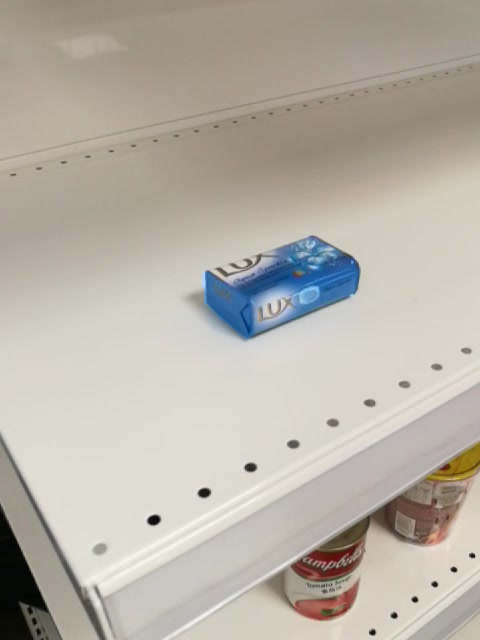soap: (204, 233, 361, 339)
